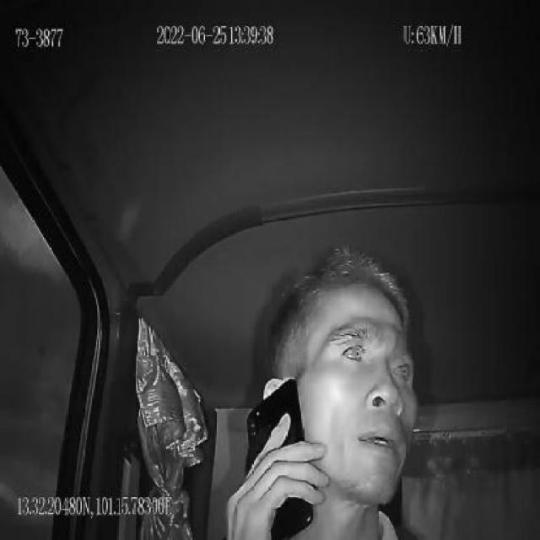phone: (244, 377, 312, 540)
